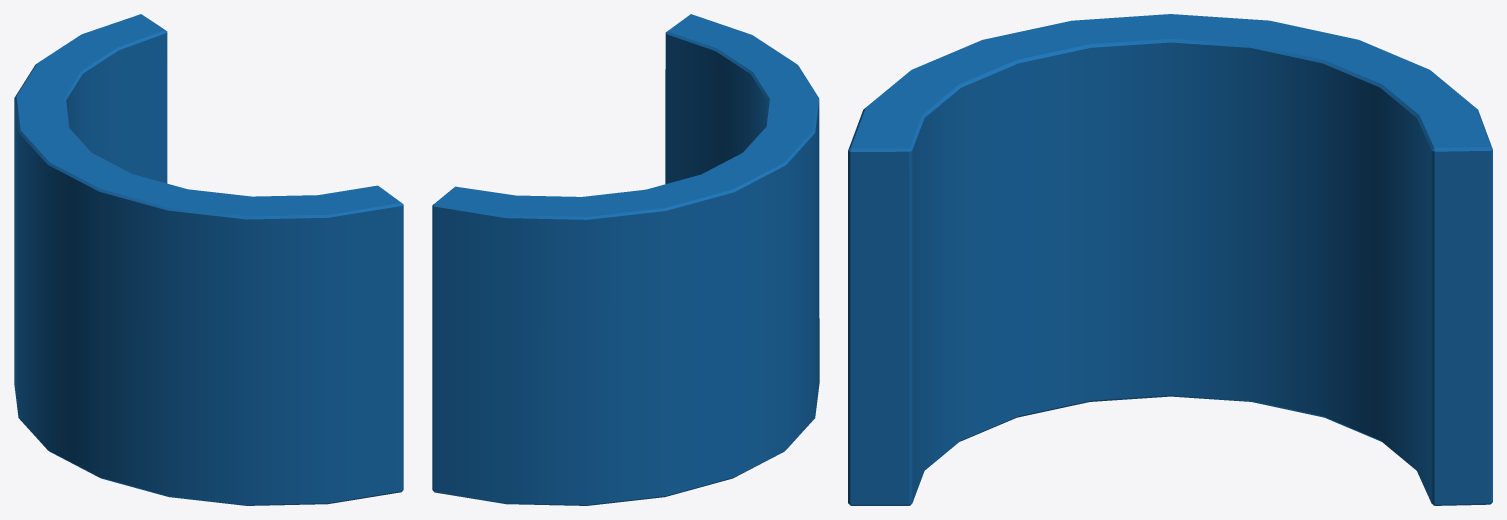
Rendered from Edge_Turn_180_03.fbx.
3 renders of one model, left to right at view 1: azimuth 30°, elevation 25°; view 2: azimuth 150°, elevation 25°; view 3: azimuth 270°, elevation 25°, orthographic. The views are drawn at different scales.
Visible parts, largest first — view 1: Edge_Turn_180_03; view 2: Edge_Turn_180_03; view 3: Edge_Turn_180_03.
Part boxes in pixels (bbox=[...]): Edge_Turn_180_03: bbox=[14, 14, 403, 505]; Edge_Turn_180_03: bbox=[432, 14, 819, 505]; Edge_Turn_180_03: bbox=[848, 14, 1492, 505].
Size of the model in its own units: 2.37 by 2.9 by 4.74.
